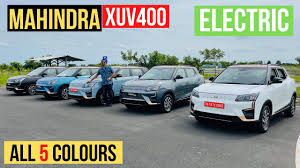XUV 400: (190, 63, 297, 133)
